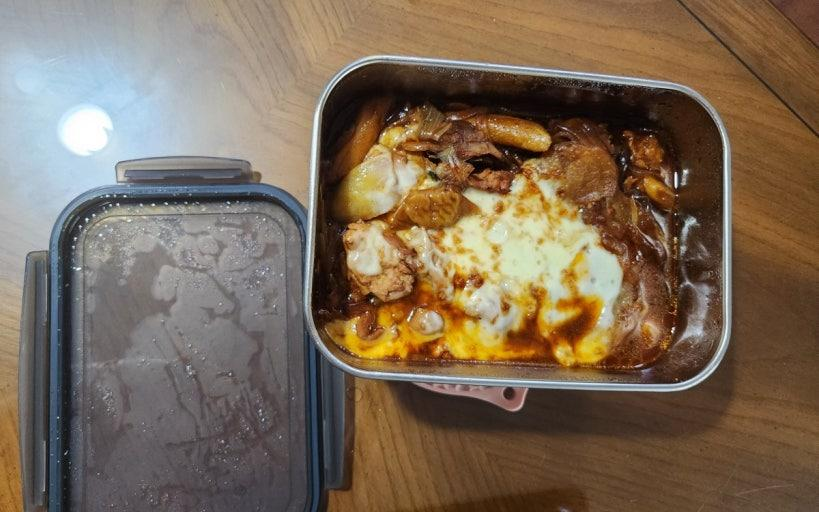Lunch Box: (20, 56, 730, 511)
